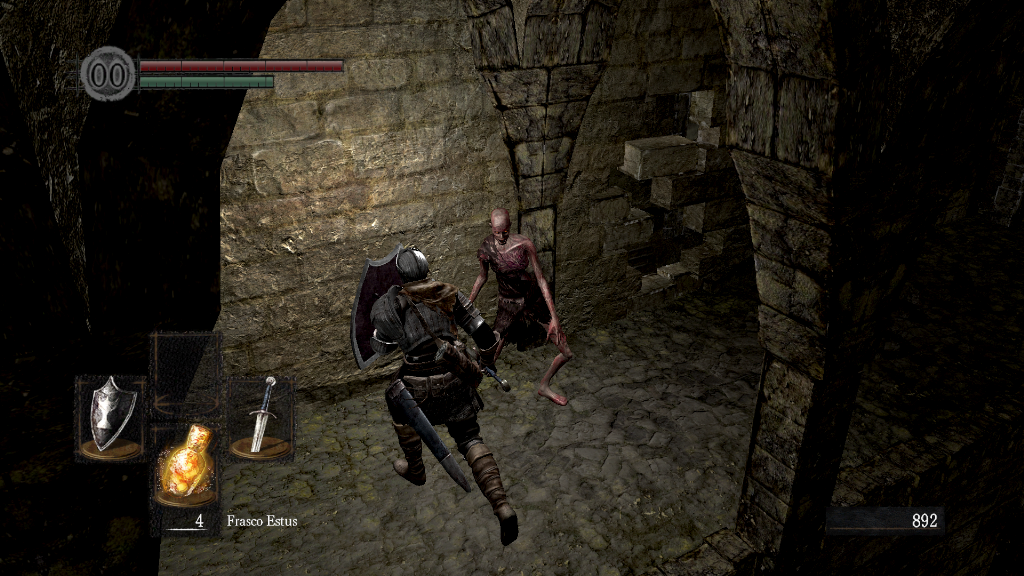health: (138, 58, 343, 71)
hollow: (461, 208, 575, 409)
humanity: (80, 45, 136, 102)
player: (347, 243, 520, 547)
souls: (825, 506, 945, 536)
stamina: (138, 74, 274, 88)
